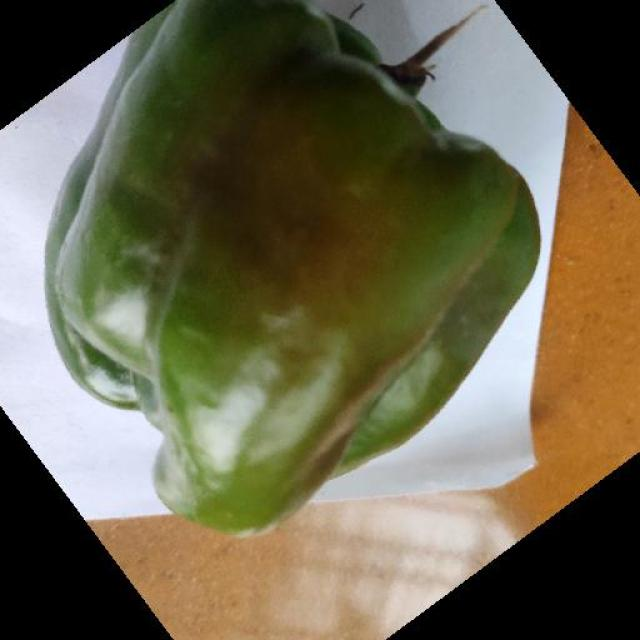Stale_Capsicum: (108, 8, 496, 490)
